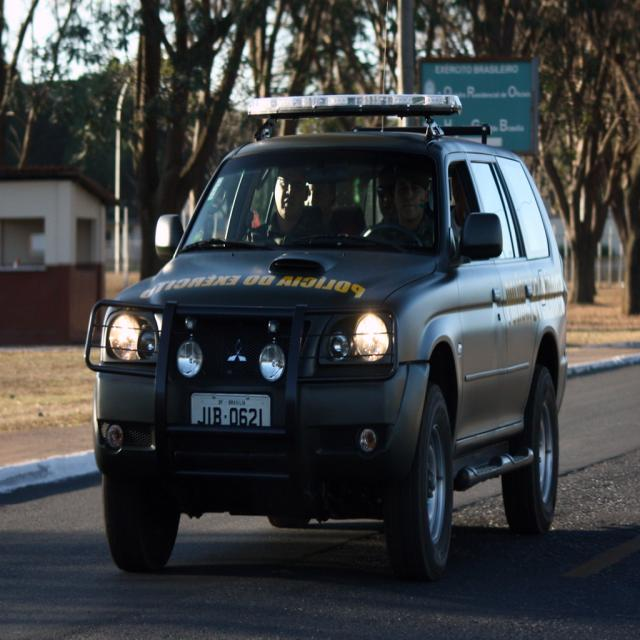car: (82, 92, 570, 583)
